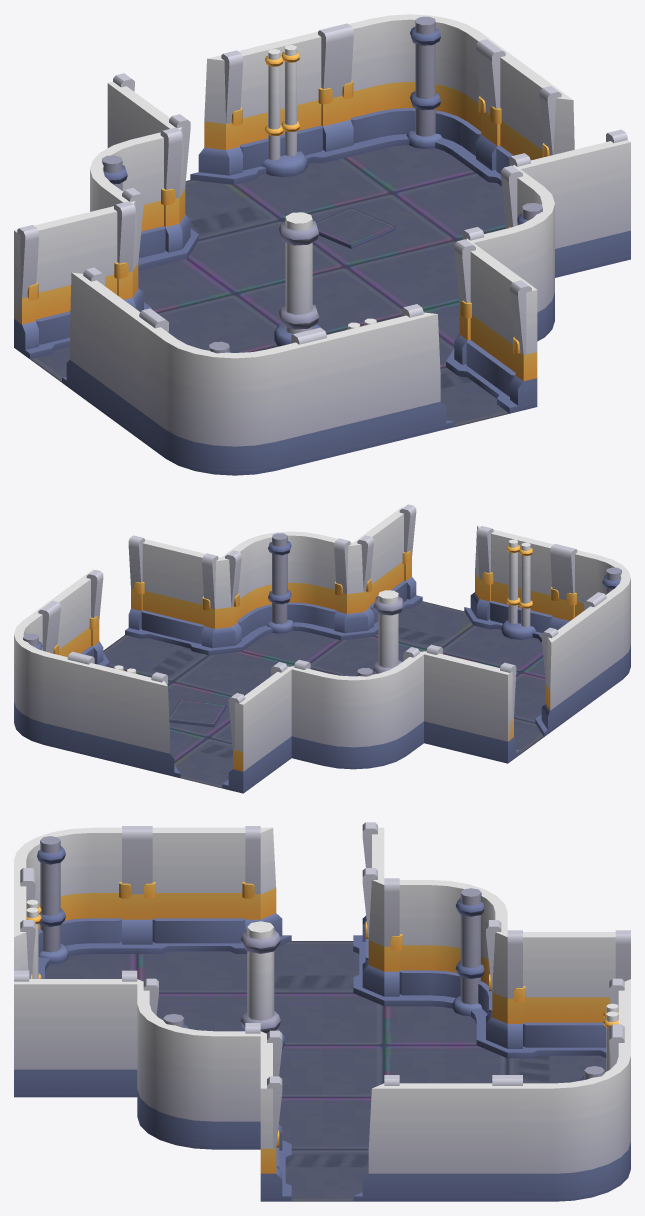
Rendered from room-large-variation.glb.
3 renders of one model, top to bottom at view 1: azimuth 30°, elevation 25°; view 2: azimuth 150°, elevation 25°; view 3: azimuth 270°, elevation 25°, orthographic. The views are drawn at different scales.
Visible parts, largest first — view 1: room-large-variation; view 2: room-large-variation; view 3: room-large-variation.
Part boxes in pixels (<box>): room-large-variation: <box>14,14,630,475</box>; room-large-variation: <box>14,504,630,793</box>; room-large-variation: <box>14,822,630,1201</box>.
Bounding box in the file's own units: 20 × 4.25 × 20.
Materials: 1 (1 with a texture image).
